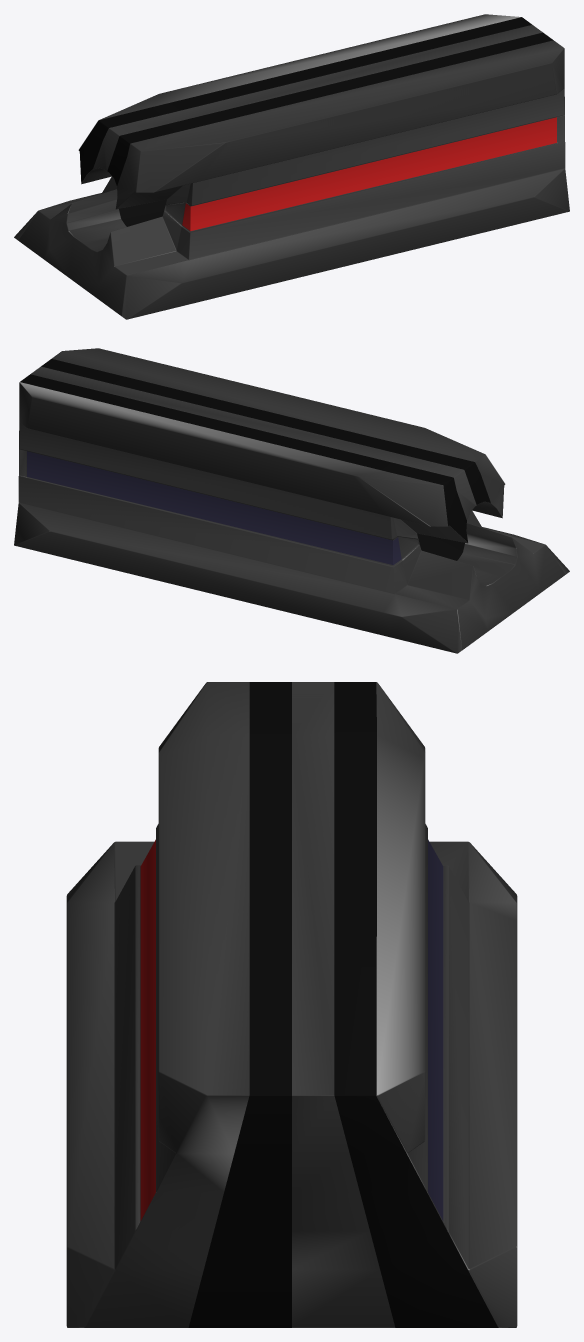
The model's file is turretHead.fbx.
The picture shows the model from 3 angles, top to bottom: view 1: azimuth 30°, elevation 25°; view 2: azimuth 150°, elevation 25°; view 3: azimuth 270°, elevation 25°; orthographic projection. The views are drawn at different scales.
Parts seen in each view (by area): view 1: Box002; view 2: Box002; view 3: Box002.
Part boxes in pixels (x1,y1,x2,y2): Box002: (14,14,569,319); Box002: (14,348,569,653); Box002: (66,682,517,1327).
Size of the model in its own units: 61.97 by 16.37 by 25.54.
